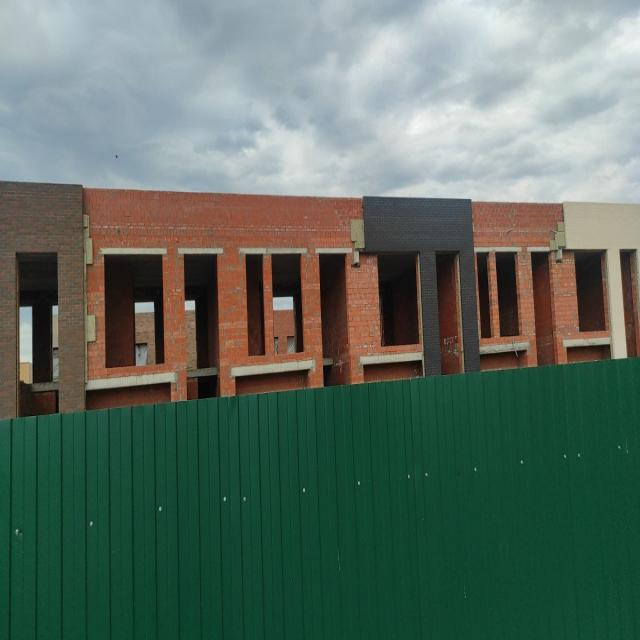Building: (0, 175, 640, 420)
